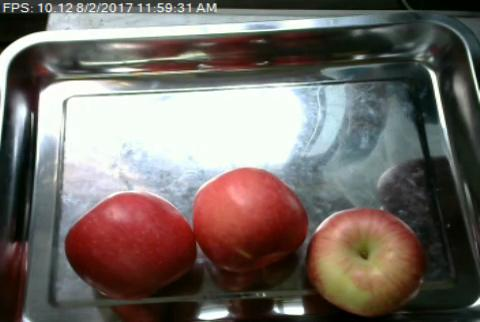apple: (62, 192, 198, 295), (307, 209, 424, 311), (195, 168, 307, 271)
